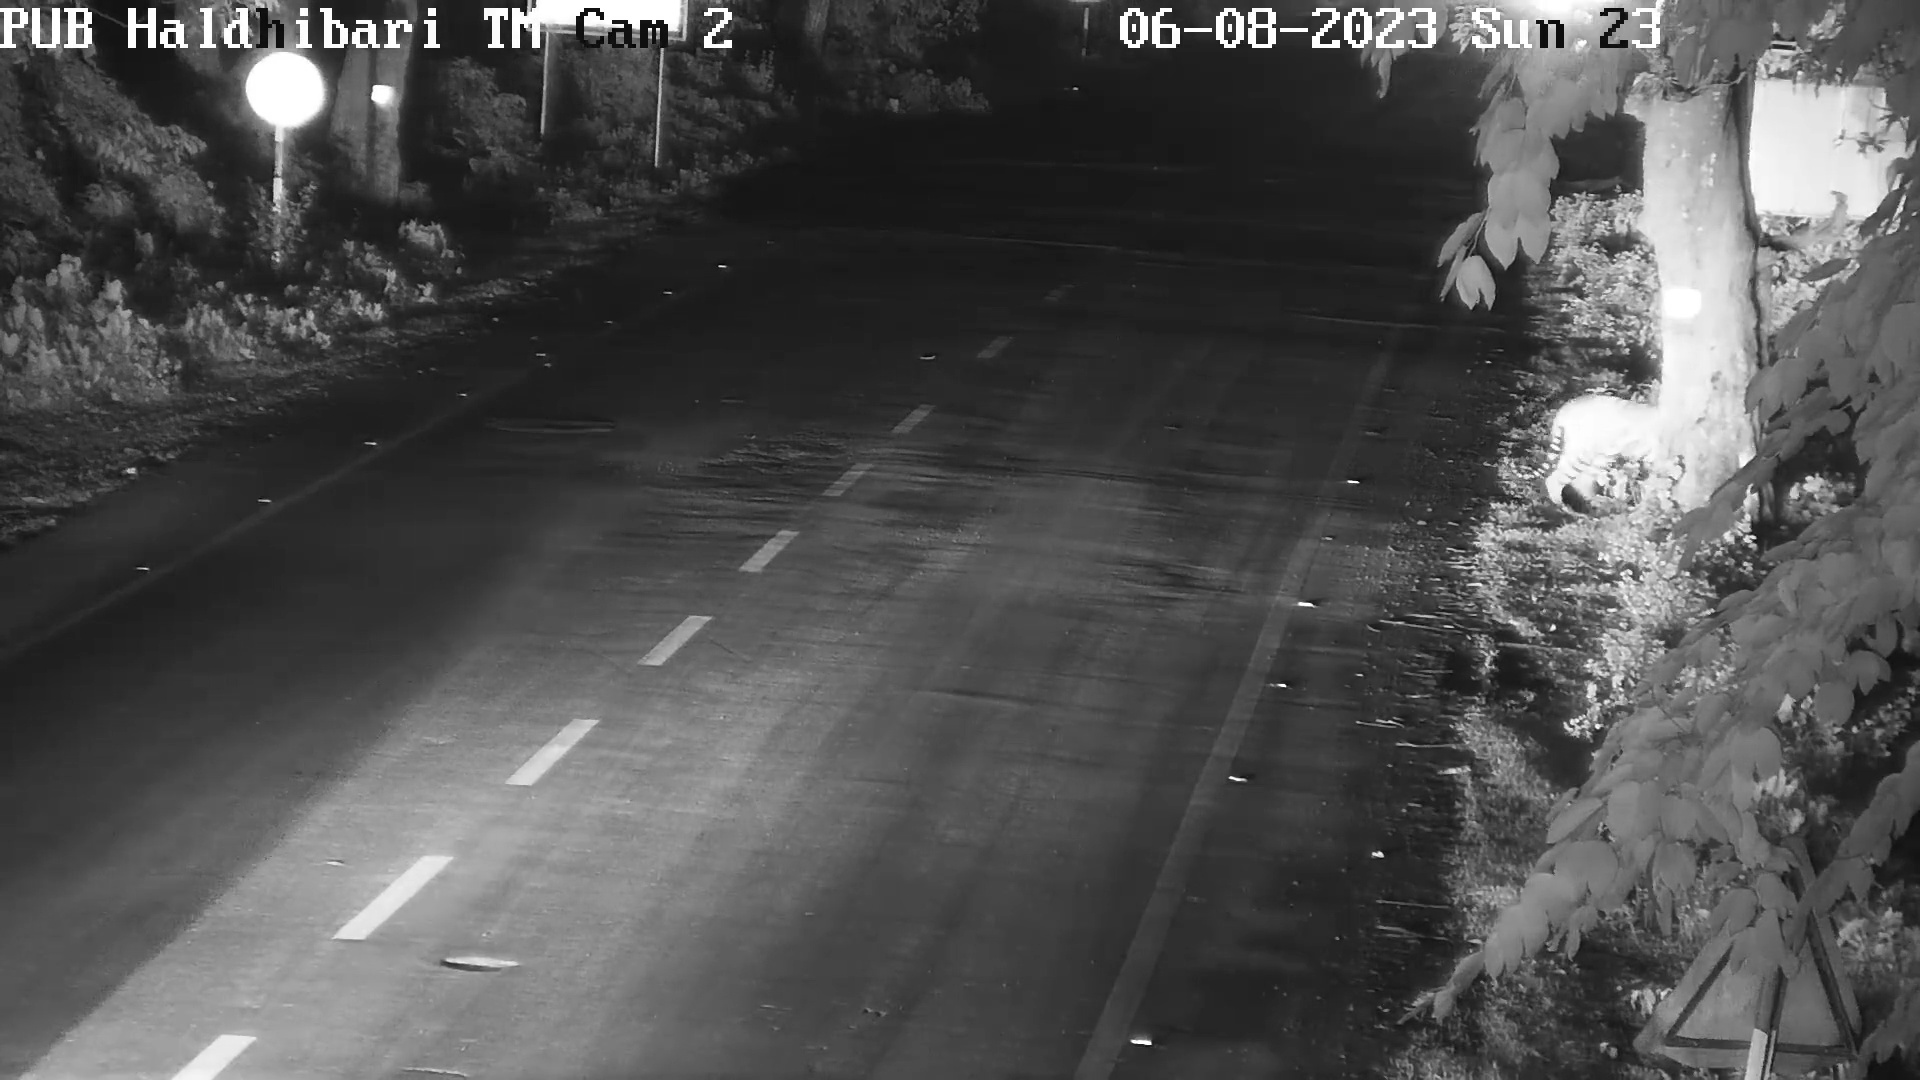tigers: (1538, 390, 1659, 525)
